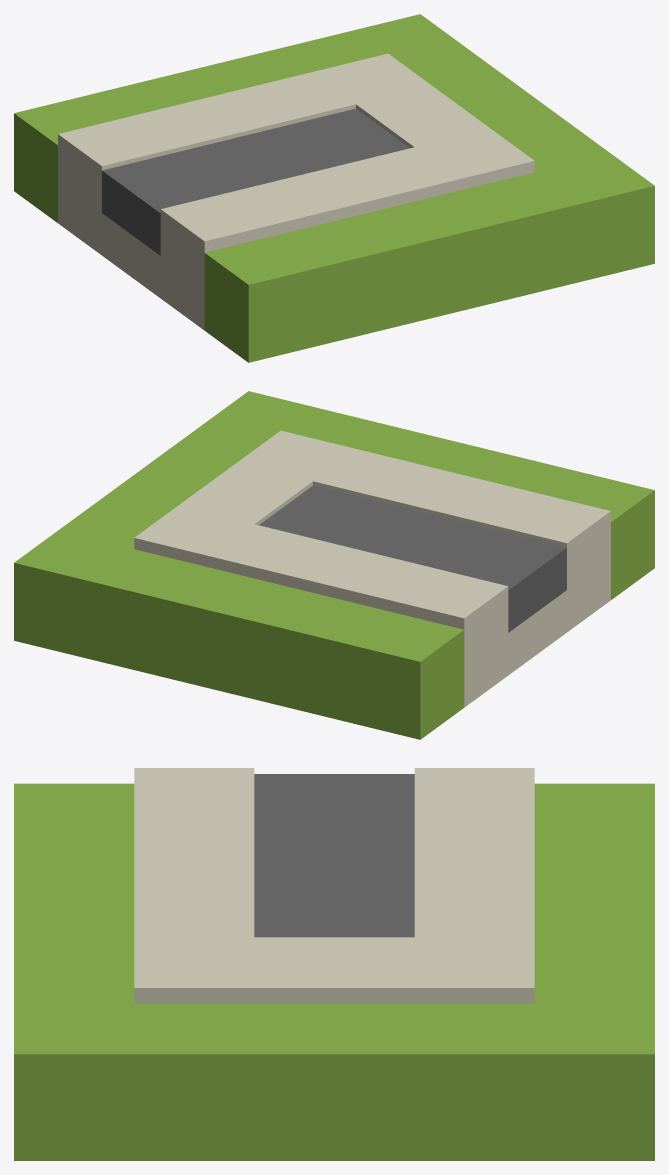
Rendered from tile060.fbx.
3 views of the same model, one above another, from view 1: azimuth 30°, elevation 25°; view 2: azimuth 150°, elevation 25°; view 3: azimuth 270°, elevation 25° (orthographic). The views are drawn at different scales.
Parts seen in each view (by area): view 1: tile060; view 2: tile060; view 3: tile060.
Boxes of the visible parts, bbox=[...] form: tile060: bbox=[14, 14, 654, 362]; tile060: bbox=[14, 391, 654, 739]; tile060: bbox=[14, 768, 654, 1160].
Bounding box in the file's own units: 10 × 2.1 × 10.
